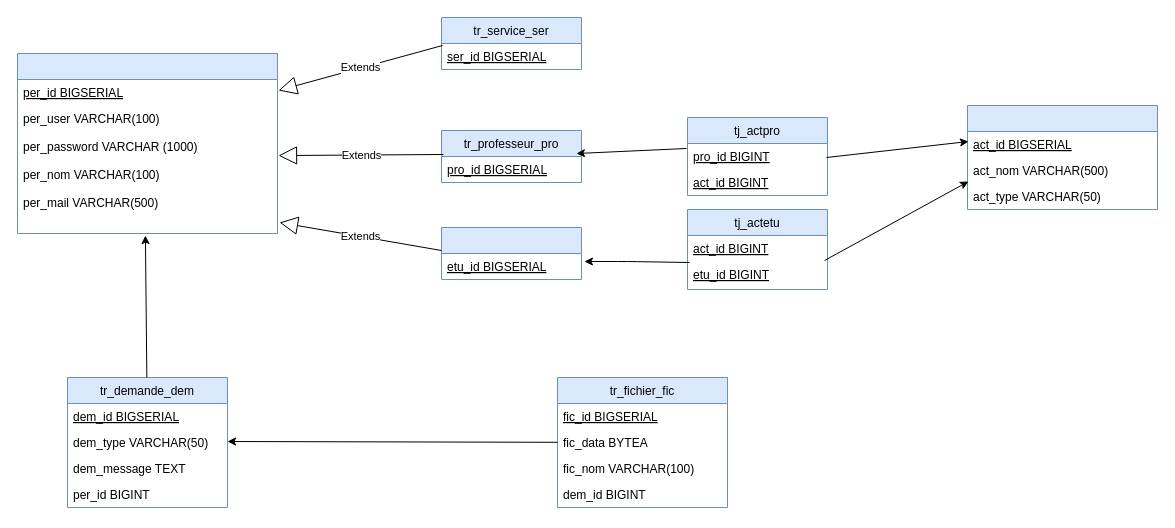
Image size: 1175x528. Some labels were removed from this diagram. Each missing label, with the box of its shape:
tr_activite_act: (966, 104, 1158, 210)
tr_etudiant_etu: (440, 226, 582, 280)
tr_personne_per: (16, 52, 278, 234)
